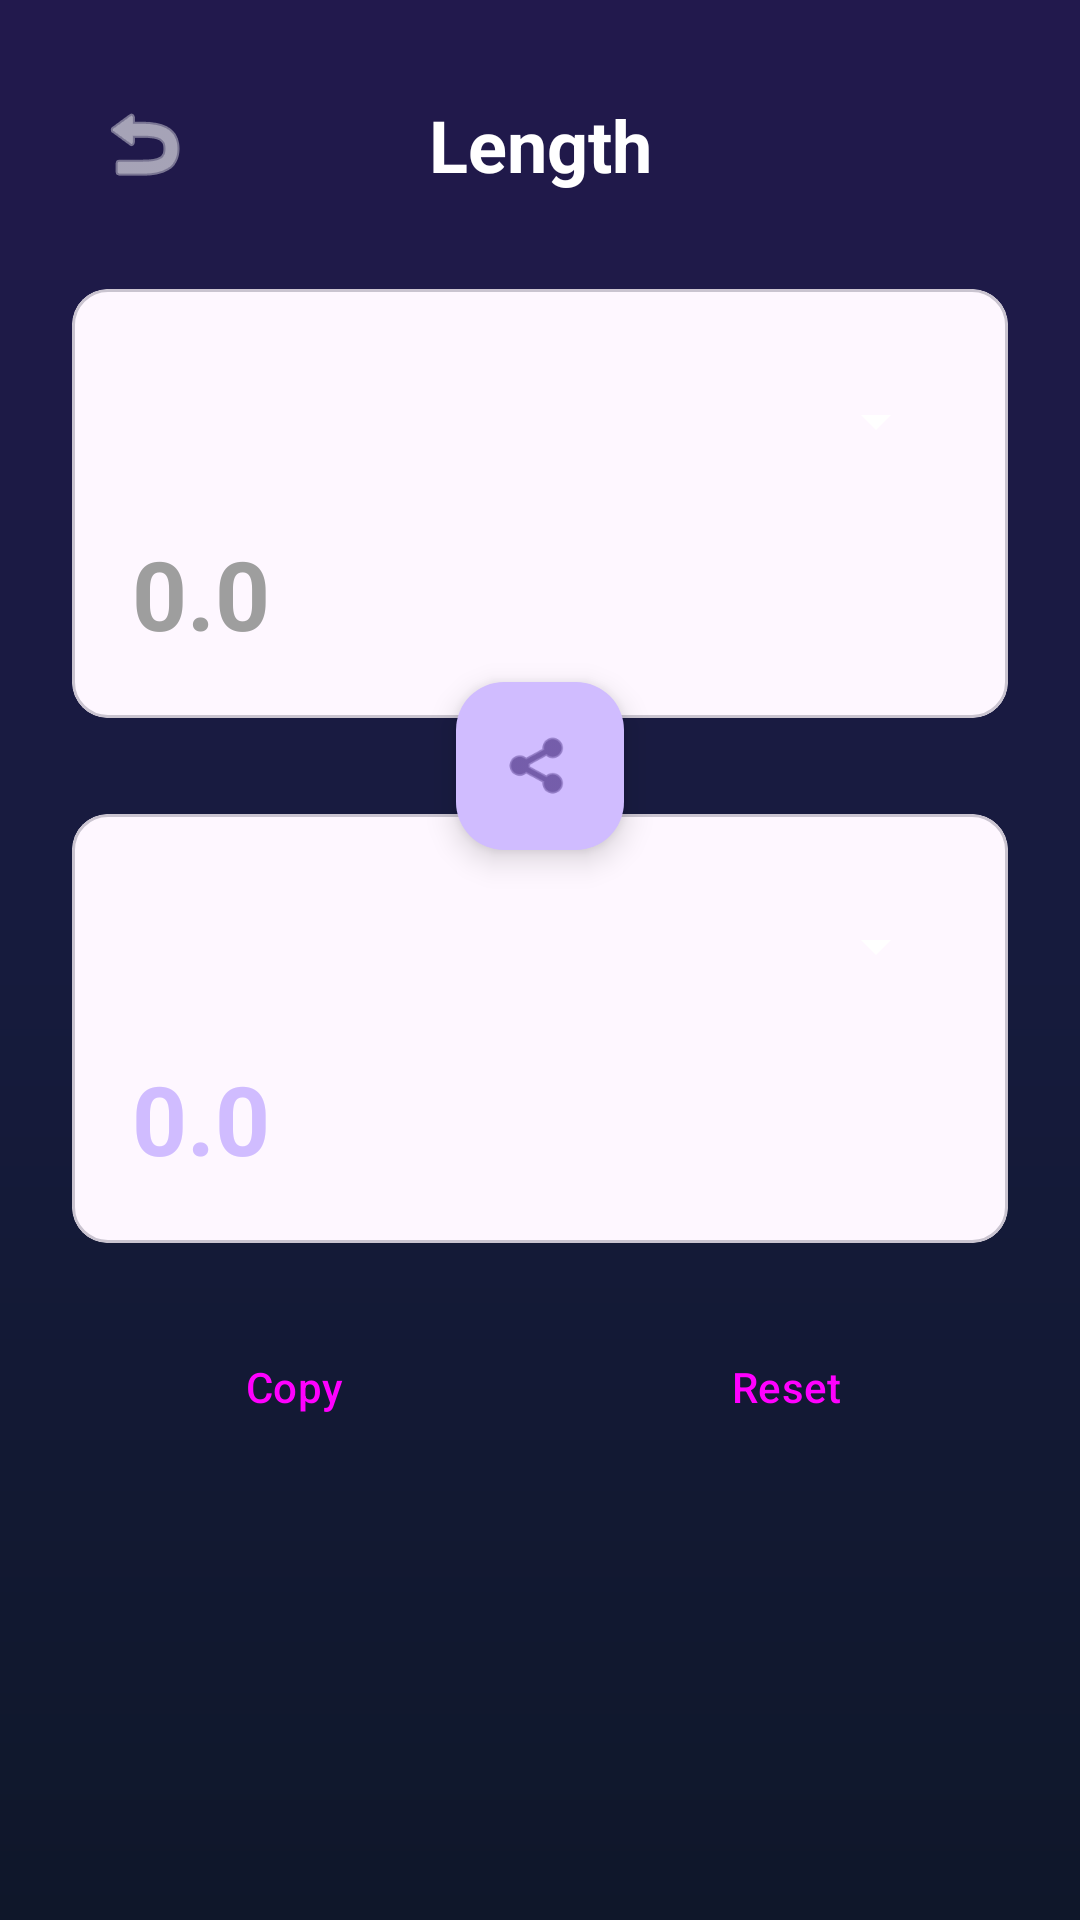

Named icons in this screenshot (1080px×1920px) and their centers, (x,y):
Back: (145,144)
share: (540,766)
